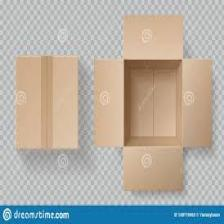cardboard: (86, 12, 214, 203), (12, 42, 81, 156)
